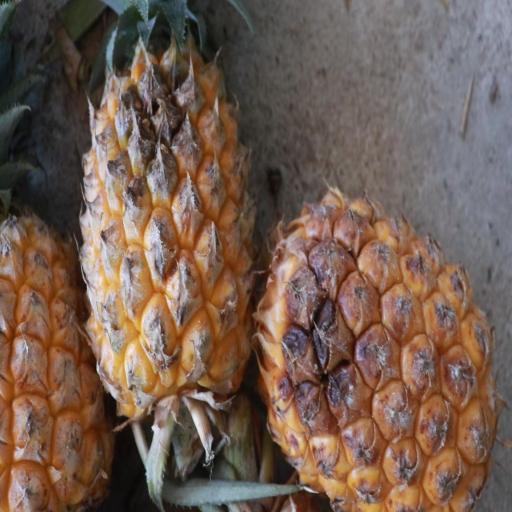Pineapple - v8 v1: (255, 179, 503, 512), (80, 0, 257, 431)
